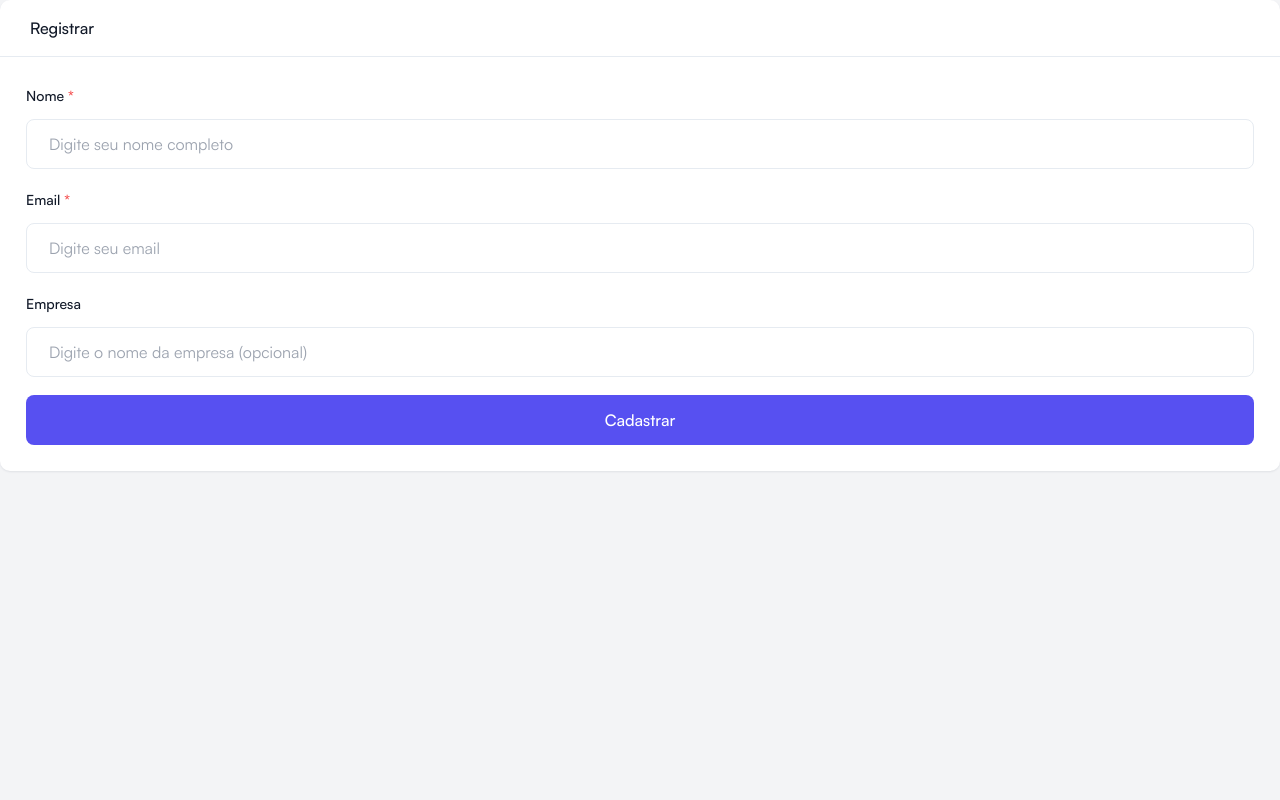
it: RegisterPage › deve submeter formulário com sucesso
In the field labelled "Nome*": (640, 144) [26,119,1254,169], type "João Silva"
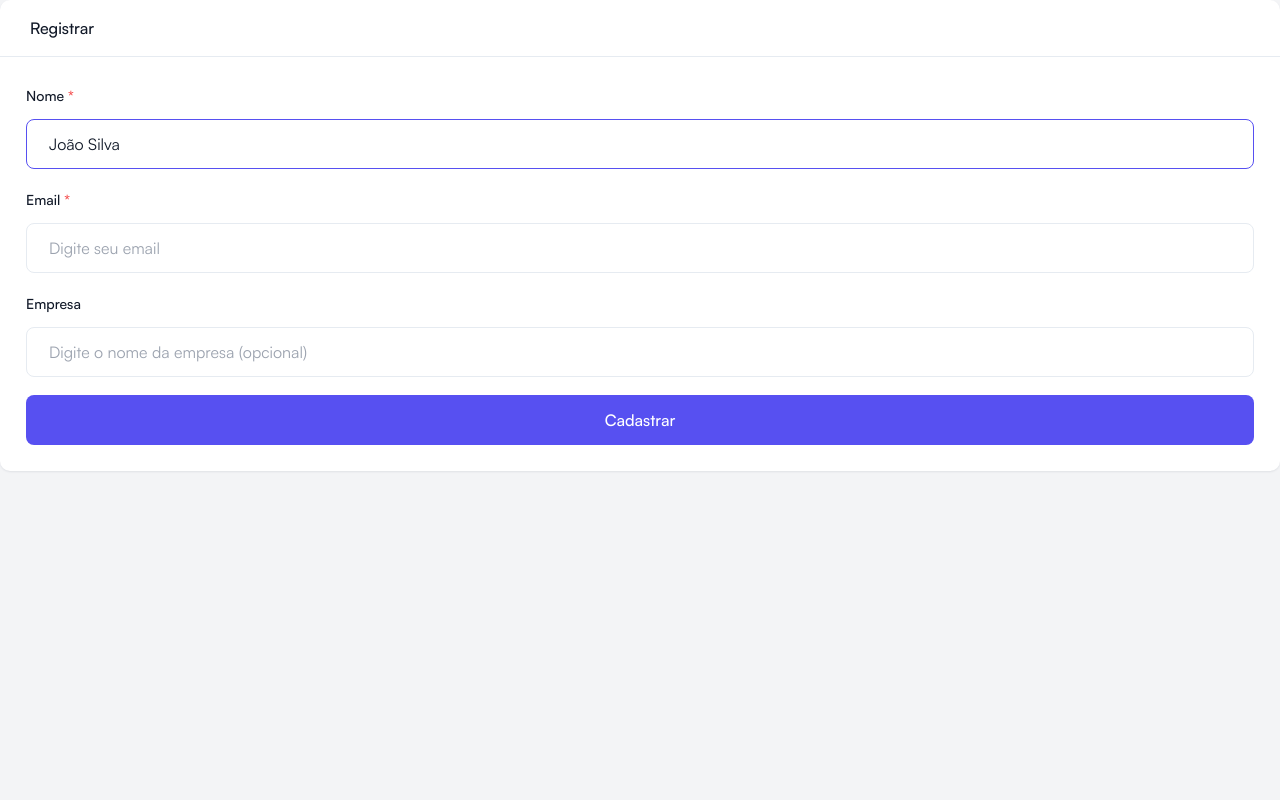
In the field labelled "Email*": (640, 248) [26,223,1254,273], type "joao@example.com"
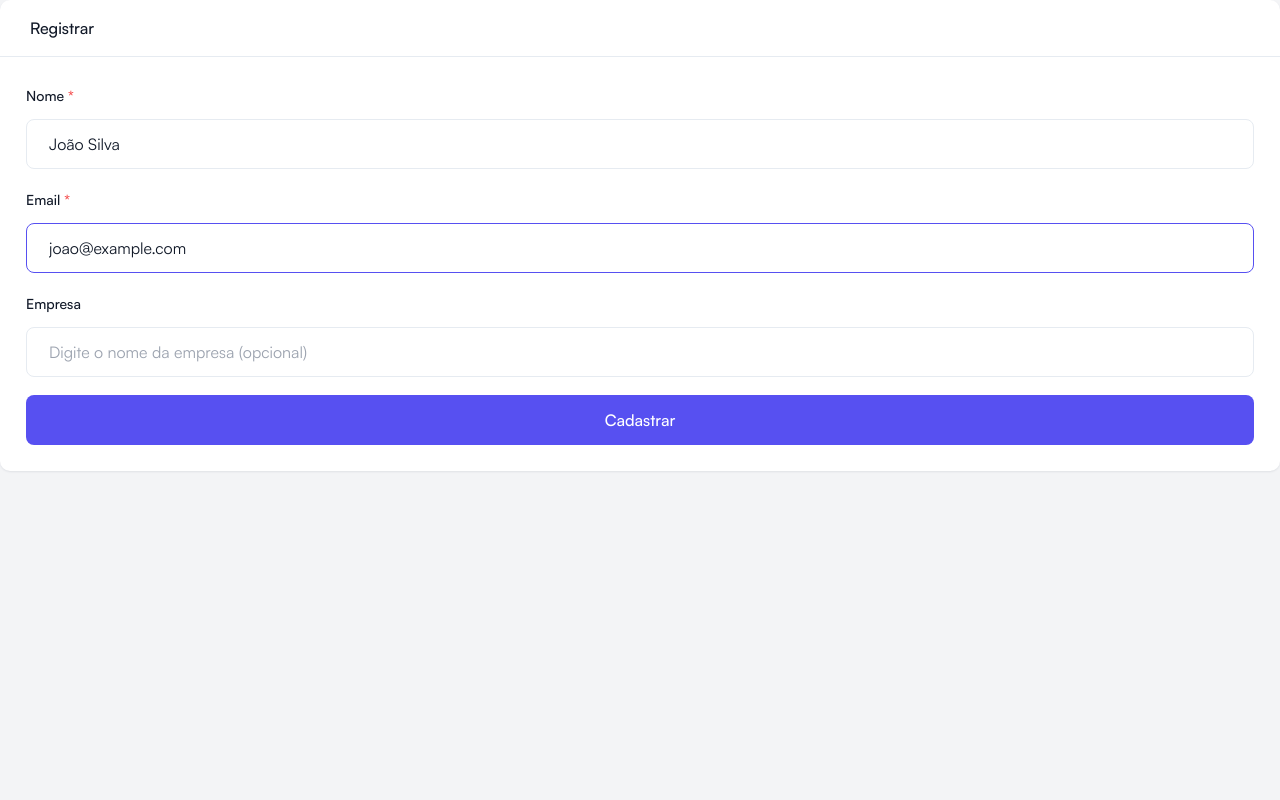
In the field labelled "Empresa": (640, 352) [26,327,1254,377], type "Empresa XYZ"
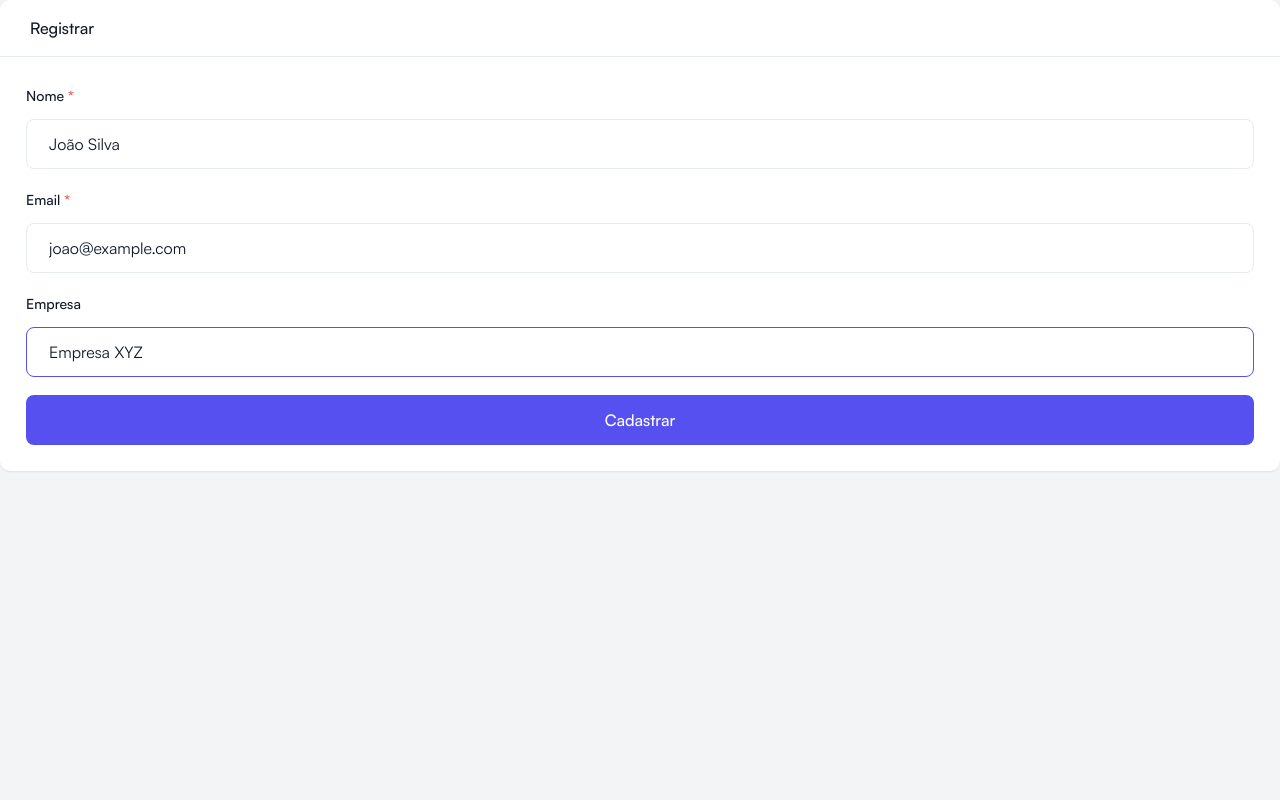
Click the button "Cadastrar": (640, 420) [26,395,1254,445]
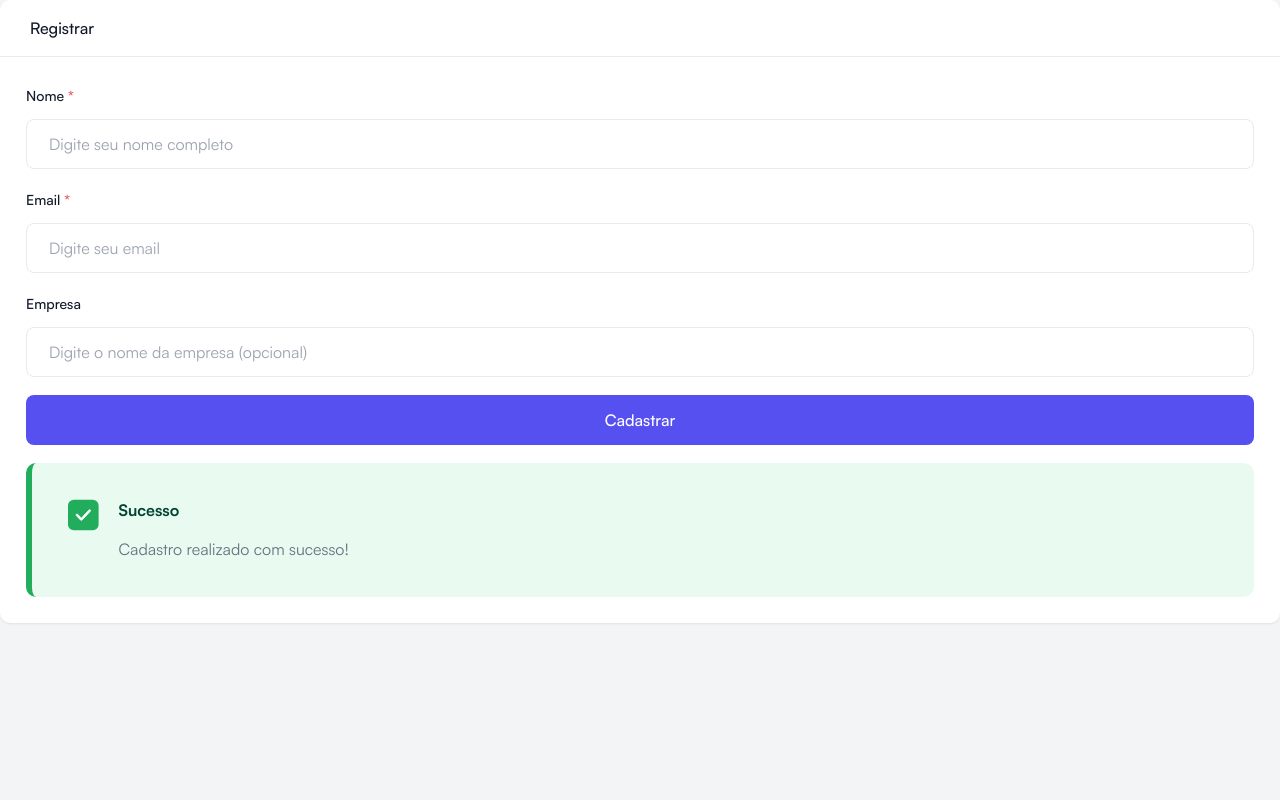
Expected: the text "Cadastro realizado com sucesso!" is shown, [119,539,349,559]
